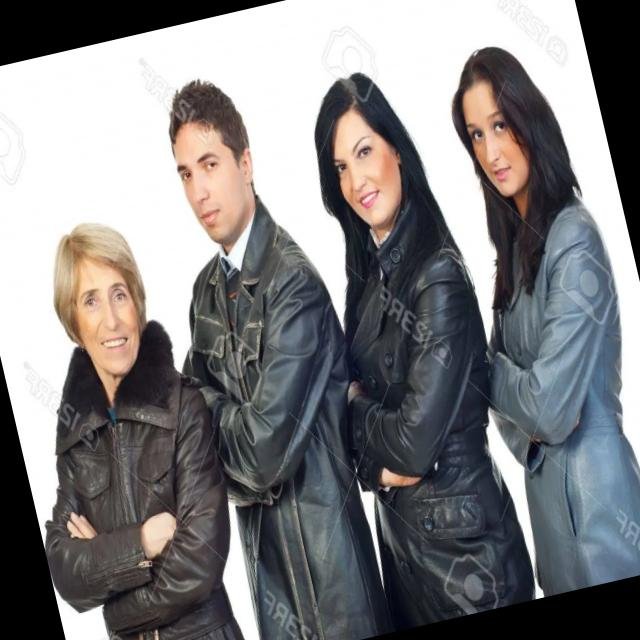Jacket: (156, 223, 409, 640), (304, 212, 550, 632), (5, 335, 271, 640), (452, 193, 640, 598)
